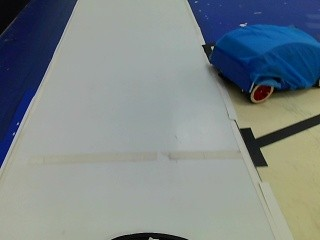car: (206, 25, 318, 103)
